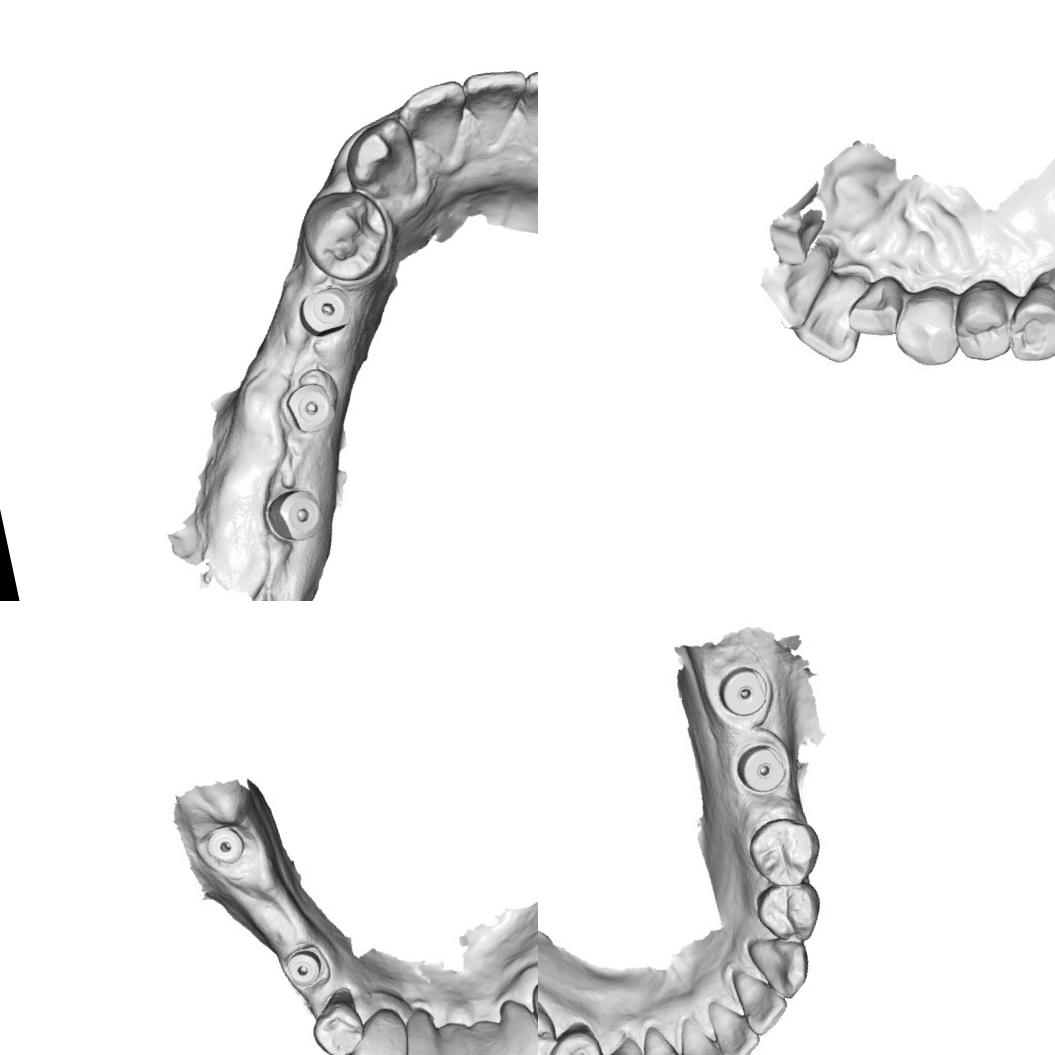canine: (336, 113, 427, 207), (884, 281, 970, 374), (746, 928, 818, 1006), (341, 1026, 414, 1055), (588, 1035, 658, 1055)
implant: (715, 657, 779, 728), (729, 736, 796, 802), (259, 482, 326, 546), (296, 286, 360, 349), (280, 374, 339, 440), (196, 816, 254, 876), (276, 936, 334, 994)
incisor: (784, 272, 883, 379), (752, 244, 844, 336), (392, 77, 480, 169), (458, 61, 538, 150), (730, 964, 788, 1033), (709, 994, 763, 1055), (851, 277, 906, 335), (671, 1006, 727, 1055), (631, 1025, 692, 1055), (517, 58, 538, 143), (506, 1028, 538, 1055)
premolar: (294, 180, 400, 288), (944, 273, 1023, 369), (745, 806, 824, 882), (997, 277, 1055, 367), (758, 875, 826, 948), (305, 987, 370, 1055), (543, 1030, 600, 1055)
